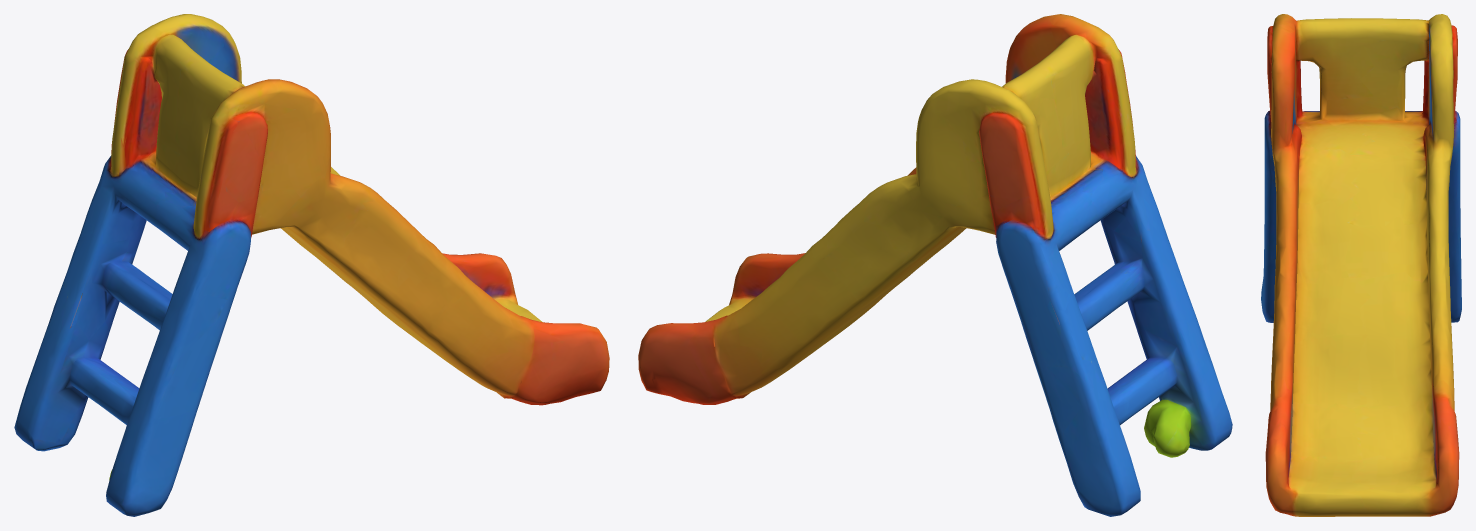
Rendered from park-slide.glb.
3 views of the same model, side by side, from view 1: azimuth 30°, elevation 25°; view 2: azimuth 150°, elevation 25°; view 3: azimuth 270°, elevation 25° (orthographic). The views are drawn at different scales.
Parts seen in each view (by area): view 1: tripo_node_0a0a01bb-c205-46cb-85e6-68a1de4fcd08; view 2: tripo_node_0a0a01bb-c205-46cb-85e6-68a1de4fcd08; view 3: tripo_node_0a0a01bb-c205-46cb-85e6-68a1de4fcd08.
Part boxes in pixels (x1,y1,x2,y2): tripo_node_0a0a01bb-c205-46cb-85e6-68a1de4fcd08: (14,14,609,516); tripo_node_0a0a01bb-c205-46cb-85e6-68a1de4fcd08: (638,14,1232,516); tripo_node_0a0a01bb-c205-46cb-85e6-68a1de4fcd08: (1261,14,1461,516).
Bounding box in the file's own units: 1 × 0.7681 × 0.3947.
1 material, 1 textured.
